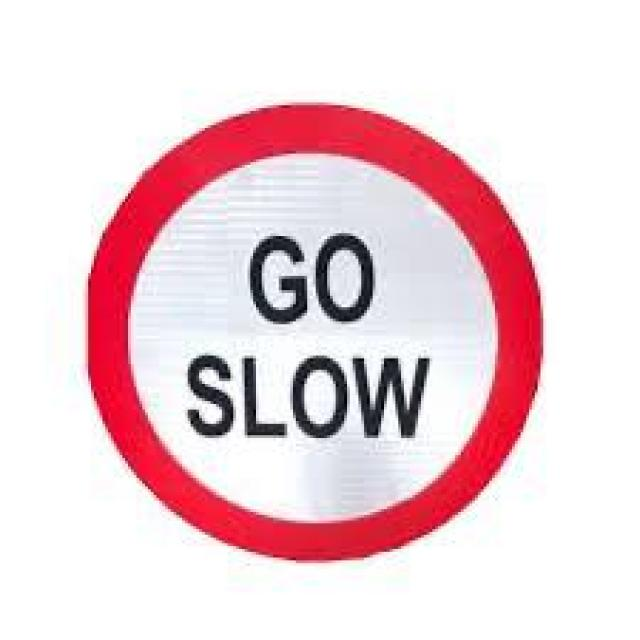go_slow: (81, 97, 547, 556)
